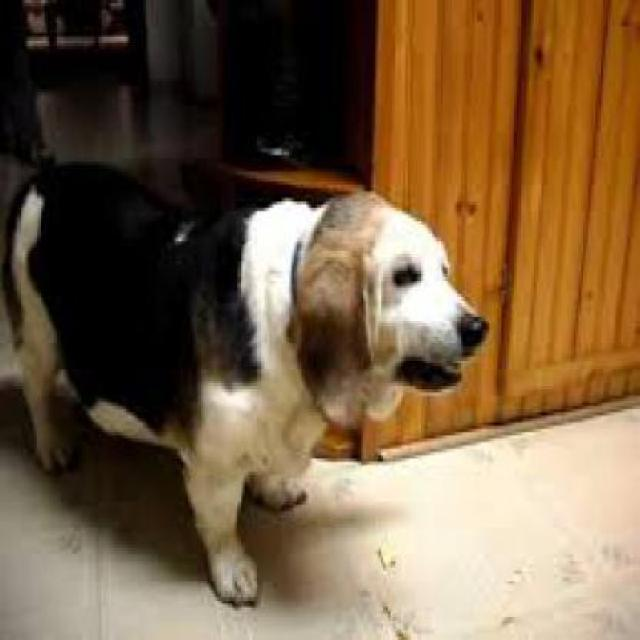Dog: (1, 162, 488, 610)
